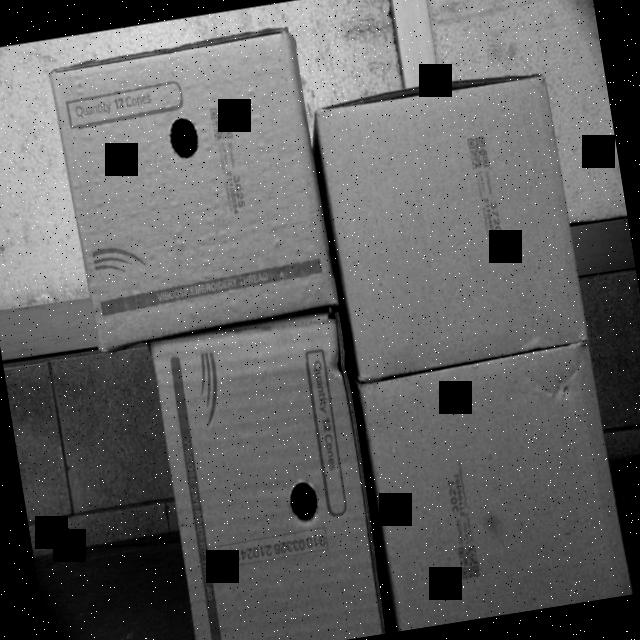box: (51, 29, 341, 348), (310, 68, 590, 386), (148, 312, 388, 640), (360, 344, 630, 630)
